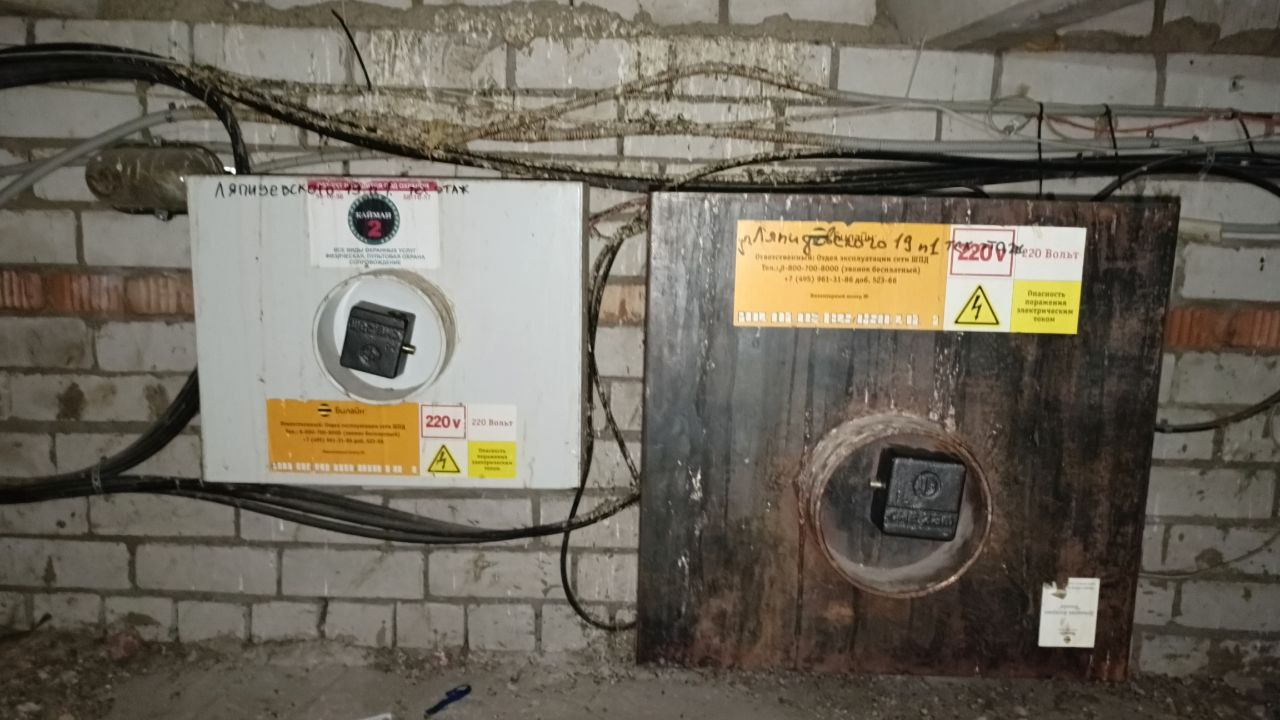shta-3: (180, 169, 591, 493)
shta-9: (625, 182, 1188, 694)
